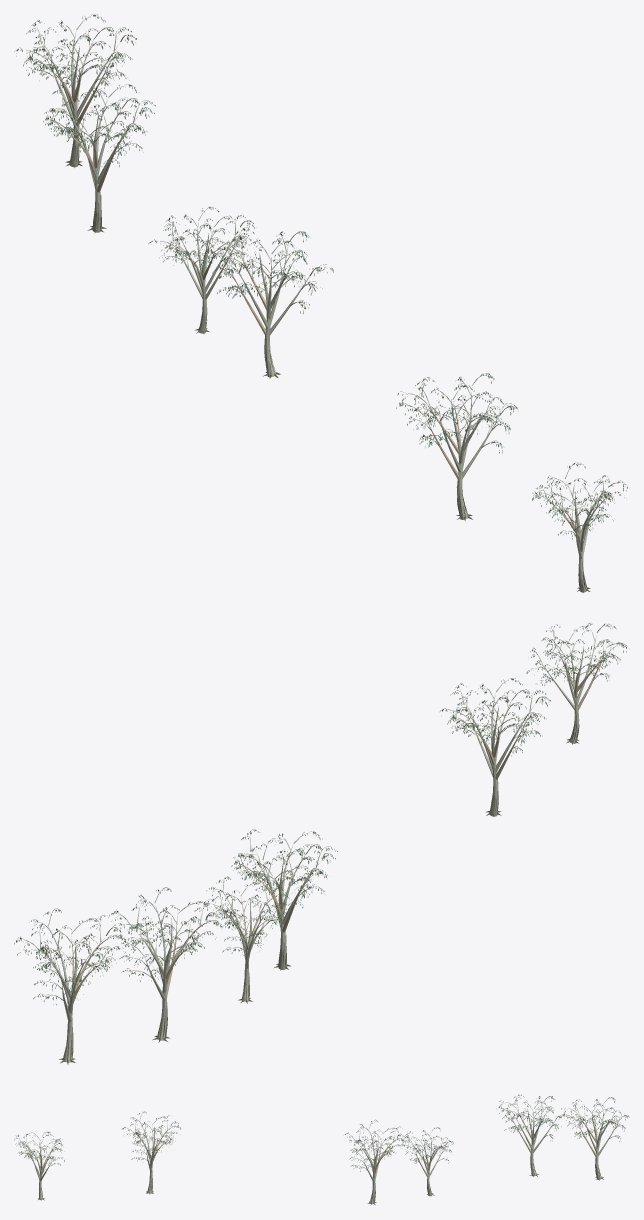
Rendered from ecology-eucalyptus-mid-0.glb.
3 renders of one model, top to bottom at view 1: azimuth 30°, elevation 25°; view 2: azimuth 150°, elevation 25°; view 3: azimuth 270°, elevation 25°, orthographic. The views are drawn at different scales.
Parts seen in each view (by area): view 1: eucalyptus-mid-3, eucalyptus-mid-0, eucalyptus-mid-4, eucalyptus-mid-1, eucalyptus-mid-2, eucalyptus-mid-5; view 2: eucalyptus-mid-1, eucalyptus-mid-0, eucalyptus-mid-4, eucalyptus-mid-3, eucalyptus-mid-5, eucalyptus-mid-2; view 3: eucalyptus-mid-0, eucalyptus-mid-1, eucalyptus-mid-3, eucalyptus-mid-4, eucalyptus-mid-2, eucalyptus-mid-5.
Part boxes in pixels (bbox=[...]): eucalyptus-mid-3: bbox=[202, 227, 333, 378]; eucalyptus-mid-0: bbox=[14, 14, 136, 167]; eucalyptus-mid-4: bbox=[396, 373, 517, 521]; eucalyptus-mid-1: bbox=[43, 82, 155, 233]; eucalyptus-mid-2: bbox=[148, 206, 254, 334]; eucalyptus-mid-5: bbox=[532, 462, 627, 592]; eucalyptus-mid-1: bbox=[109, 887, 222, 1042]; eucalyptus-mid-0: bbox=[14, 908, 127, 1064]; eucalyptus-mid-4: bbox=[440, 678, 550, 816]; eucalyptus-mid-3: bbox=[231, 829, 337, 970]; eucalyptus-mid-5: bbox=[526, 623, 626, 744]; eucalyptus-mid-2: bbox=[203, 876, 291, 1003]; eucalyptus-mid-0: bbox=[560, 1097, 629, 1180]; eucalyptus-mid-1: bbox=[496, 1094, 567, 1176]; eucalyptus-mid-3: bbox=[345, 1119, 405, 1205]; eucalyptus-mid-4: bbox=[122, 1111, 180, 1194]; eucalyptus-mid-2: bbox=[399, 1127, 453, 1196]; eucalyptus-mid-5: bbox=[14, 1132, 64, 1200].
Size of the model in its own units: 14.88 by 20.1 by 107.
